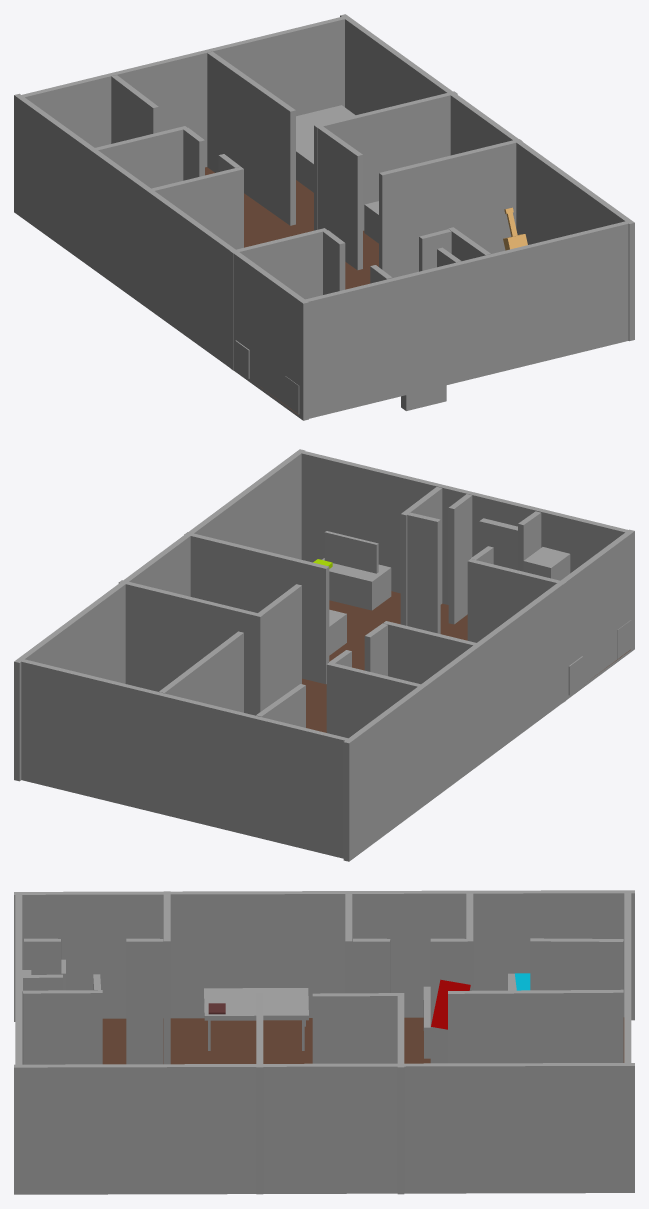
File: greybox.fbx
The picture shows the model from 3 angles, top to bottom: view 1: azimuth 30°, elevation 25°; view 2: azimuth 150°, elevation 25°; view 3: azimuth 270°, elevation 25°; orthographic projection. The views are drawn at different scales.
Parts seen in each view (by area): view 1: pCube41, pCube43, pCube40, pCube42, pCube1, pCube10, pCube2, pCube16, pCube3, pCube7, pPlane1, pCube4 (+7 smaller); view 2: pCube40, pCube43, pCube41, pCube42, pCube2, pCube1, pCube7, pCube4, pCube16, pPlane1, pCube30, pCube10 (+11 smaller); view 3: pCube42, pCube43, pCube10, pPlane1, pCube16, pCube29, pCube11, pCube9, pCube23, pCube5, pCube6, pCube1 (+10 smaller).
Part boxes in pixels (bbox=[...]): pCube41: bbox=[300, 221, 628, 418]; pCube43: bbox=[14, 93, 308, 420]; pCube40: bbox=[20, 16, 348, 167]; pCube42: bbox=[340, 14, 634, 341]; pCube1: bbox=[379, 139, 522, 277]; pCube10: bbox=[207, 51, 295, 225]; pCube2: bbox=[314, 91, 457, 230]; pCube16: bbox=[317, 126, 362, 270]; pCube3: bbox=[147, 166, 243, 249]; pCube7: bbox=[230, 228, 327, 370]; pPlane1: bbox=[205, 167, 378, 414]; pCube4: bbox=[94, 126, 187, 188]; pCube40: bbox=[18, 658, 350, 858]; pCube43: bbox=[343, 529, 634, 861]; pCube41: bbox=[301, 451, 633, 604]; pCube42: bbox=[14, 449, 305, 781]; pCube2: bbox=[118, 580, 263, 715]; pCube1: bbox=[184, 532, 329, 684]; pCube7: bbox=[467, 559, 566, 702]; pCube4: bbox=[326, 662, 424, 738]; pCube16: bbox=[258, 584, 301, 709]; pPlane1: bbox=[302, 591, 630, 732]; pCube30: bbox=[407, 512, 440, 633]; pCube10: bbox=[159, 631, 243, 712]; pCube42: bbox=[14, 1063, 634, 1194]; pCube43: bbox=[14, 890, 634, 1021]; pCube10: bbox=[448, 989, 623, 1063]; pPlane1: bbox=[102, 1017, 624, 1064]; pCube16: bbox=[312, 993, 397, 1063]; pCube29: bbox=[23, 990, 102, 1064]; pCube11: bbox=[530, 938, 623, 990]; pCube9: bbox=[126, 938, 163, 1064]; pCube23: bbox=[204, 988, 308, 1020]; pCube5: bbox=[430, 938, 467, 1063]; pCube6: bbox=[353, 938, 390, 993]; pCube1: bbox=[256, 993, 263, 1194].
Bounding box in the file's own units: 37.33 × 14.42 × 55.23.
